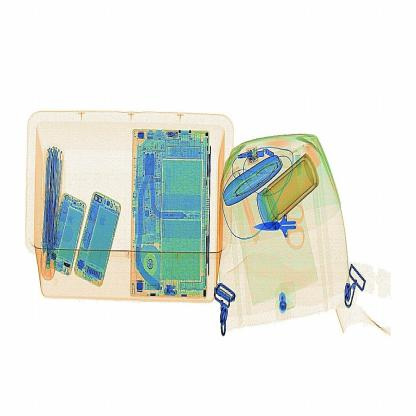gun: (252, 198, 316, 256)
